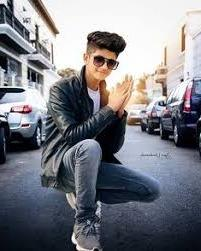Human: (43, 20, 156, 251)
